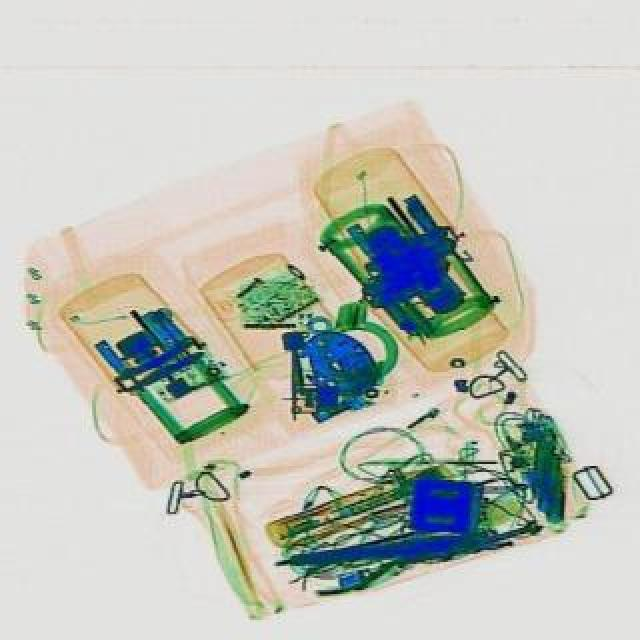wrench: (300, 524, 464, 600)
